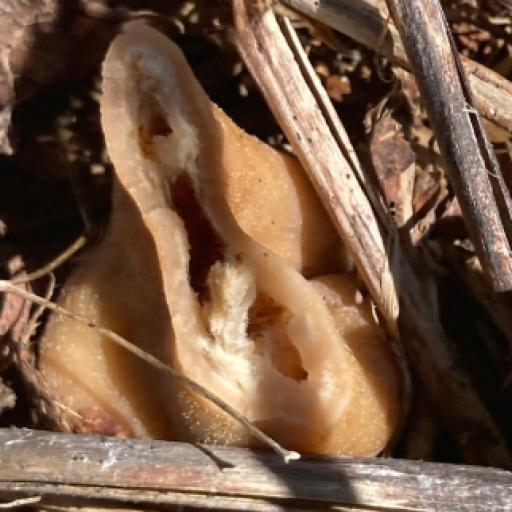False Morel: (55, 36, 432, 449)
